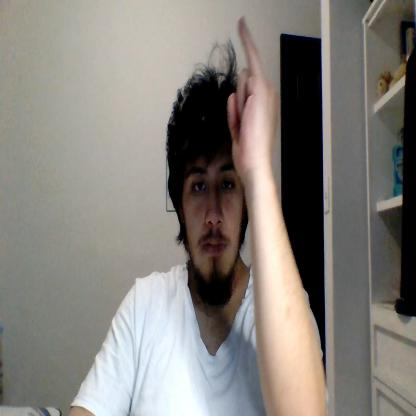I: (228, 16, 277, 176)
